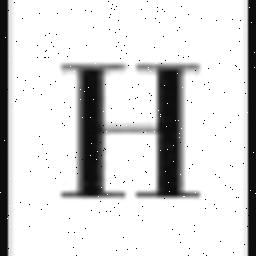h: (46, 44, 224, 228)
